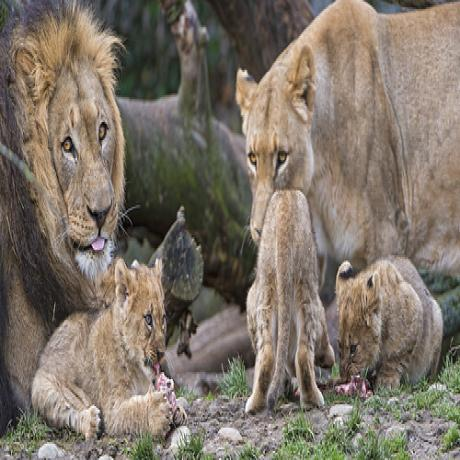Lion: (226, 0, 460, 266), (0, 0, 142, 300), (37, 248, 183, 433), (249, 194, 328, 411), (336, 248, 444, 391)
